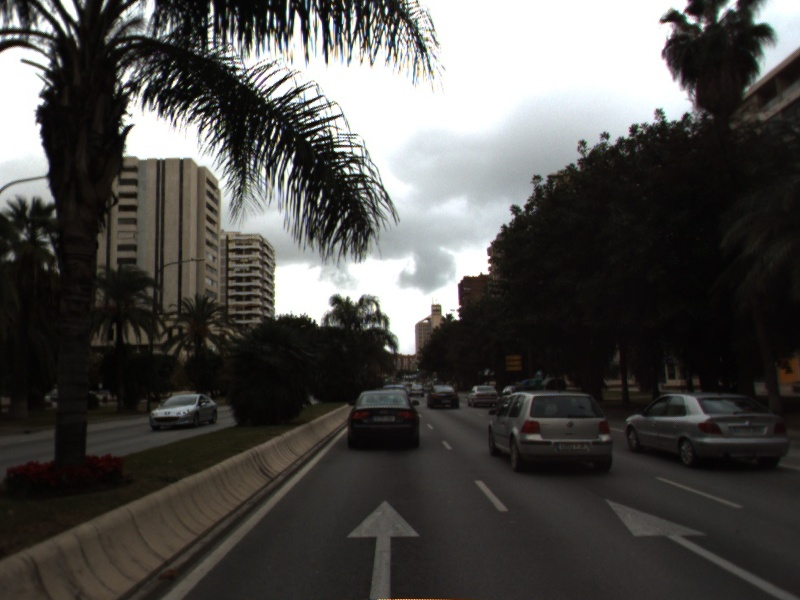STRAIGHT: (602, 495, 800, 600), (341, 495, 425, 600)
